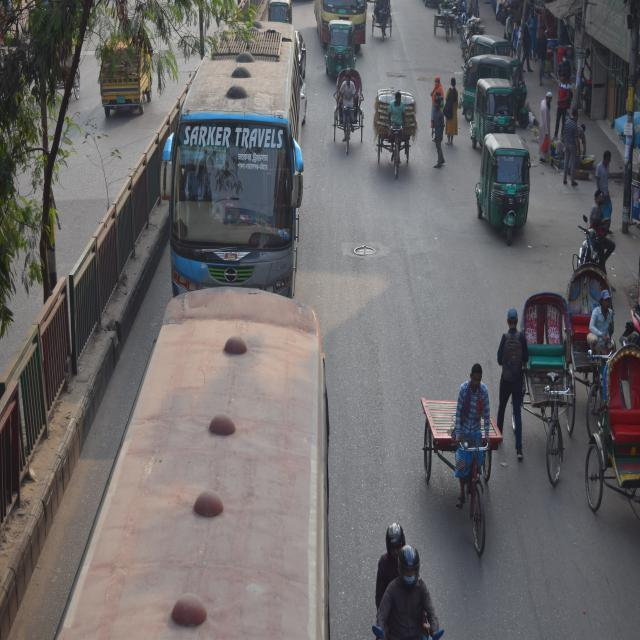bus: (49, 290, 335, 640), (168, 21, 312, 300), (313, 0, 370, 50)
motorbike: (569, 200, 607, 298)
pickup-van: (96, 17, 162, 129)
